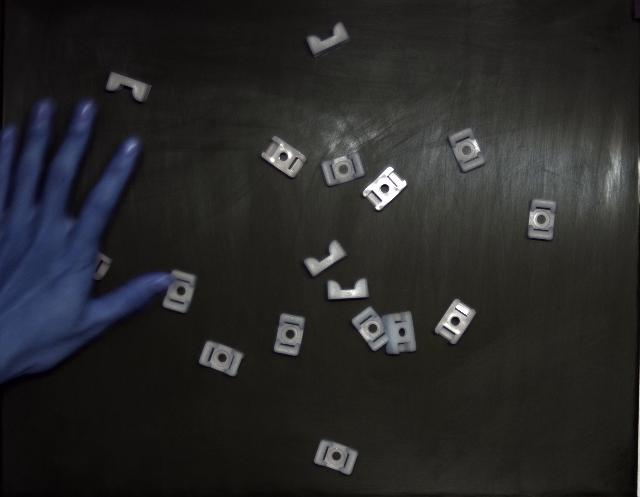first_side: (199, 341, 244, 378), (449, 128, 485, 172), (314, 440, 358, 475), (321, 152, 365, 186), (528, 199, 556, 241)
second_side: (362, 168, 406, 211), (261, 136, 306, 178), (435, 299, 476, 345)
third_side: (304, 240, 346, 278), (306, 22, 350, 58), (106, 72, 151, 102), (328, 279, 369, 300)
